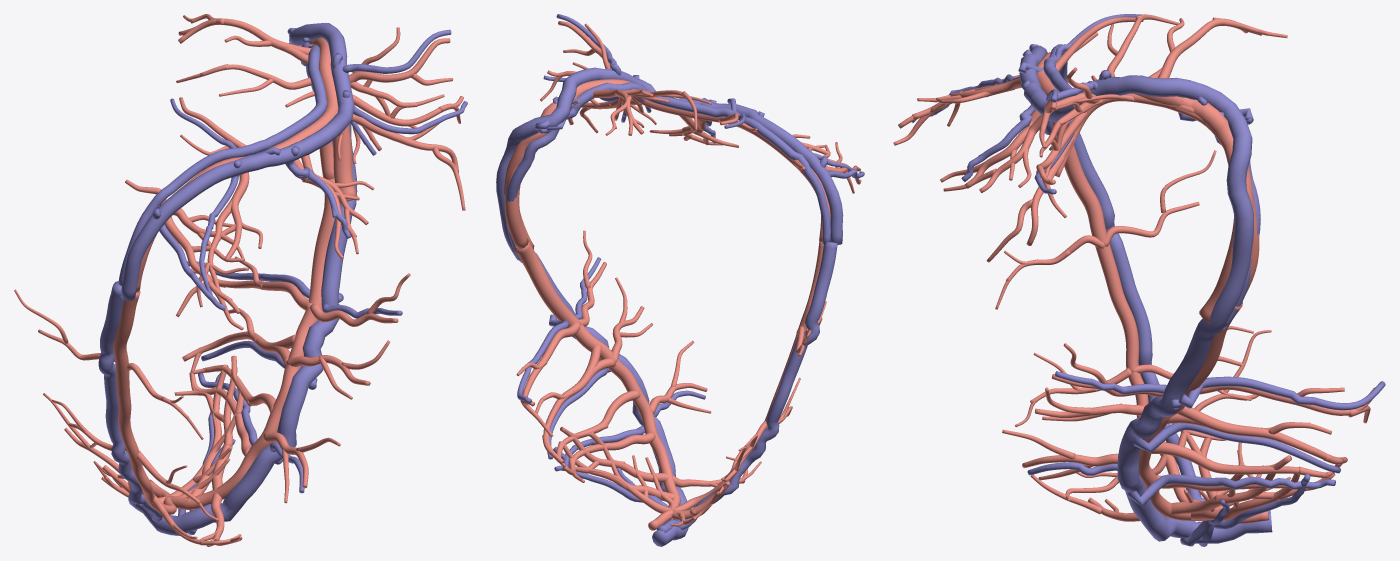
File: vessels_29.glb
The picture shows the model from 3 angles, left to right: view 1: azimuth 30°, elevation 25°; view 2: azimuth 150°, elevation 25°; view 3: azimuth 270°, elevation 25°; orthographic projection. The views are drawn at different scales.
Parts seen in each view (by area): view 1: Renderer Node; view 2: Renderer Node; view 3: Renderer Node.
Part boxes in pixels (x1=…): Renderer Node: x1=14, y1=14, x2=467, y2=546; Renderer Node: x1=496, y1=14, x2=864, y2=546; Renderer Node: x1=893, y1=14, x2=1385, y2=546.
Size of the model in its own units: 93.73 by 120 by 94.26.
